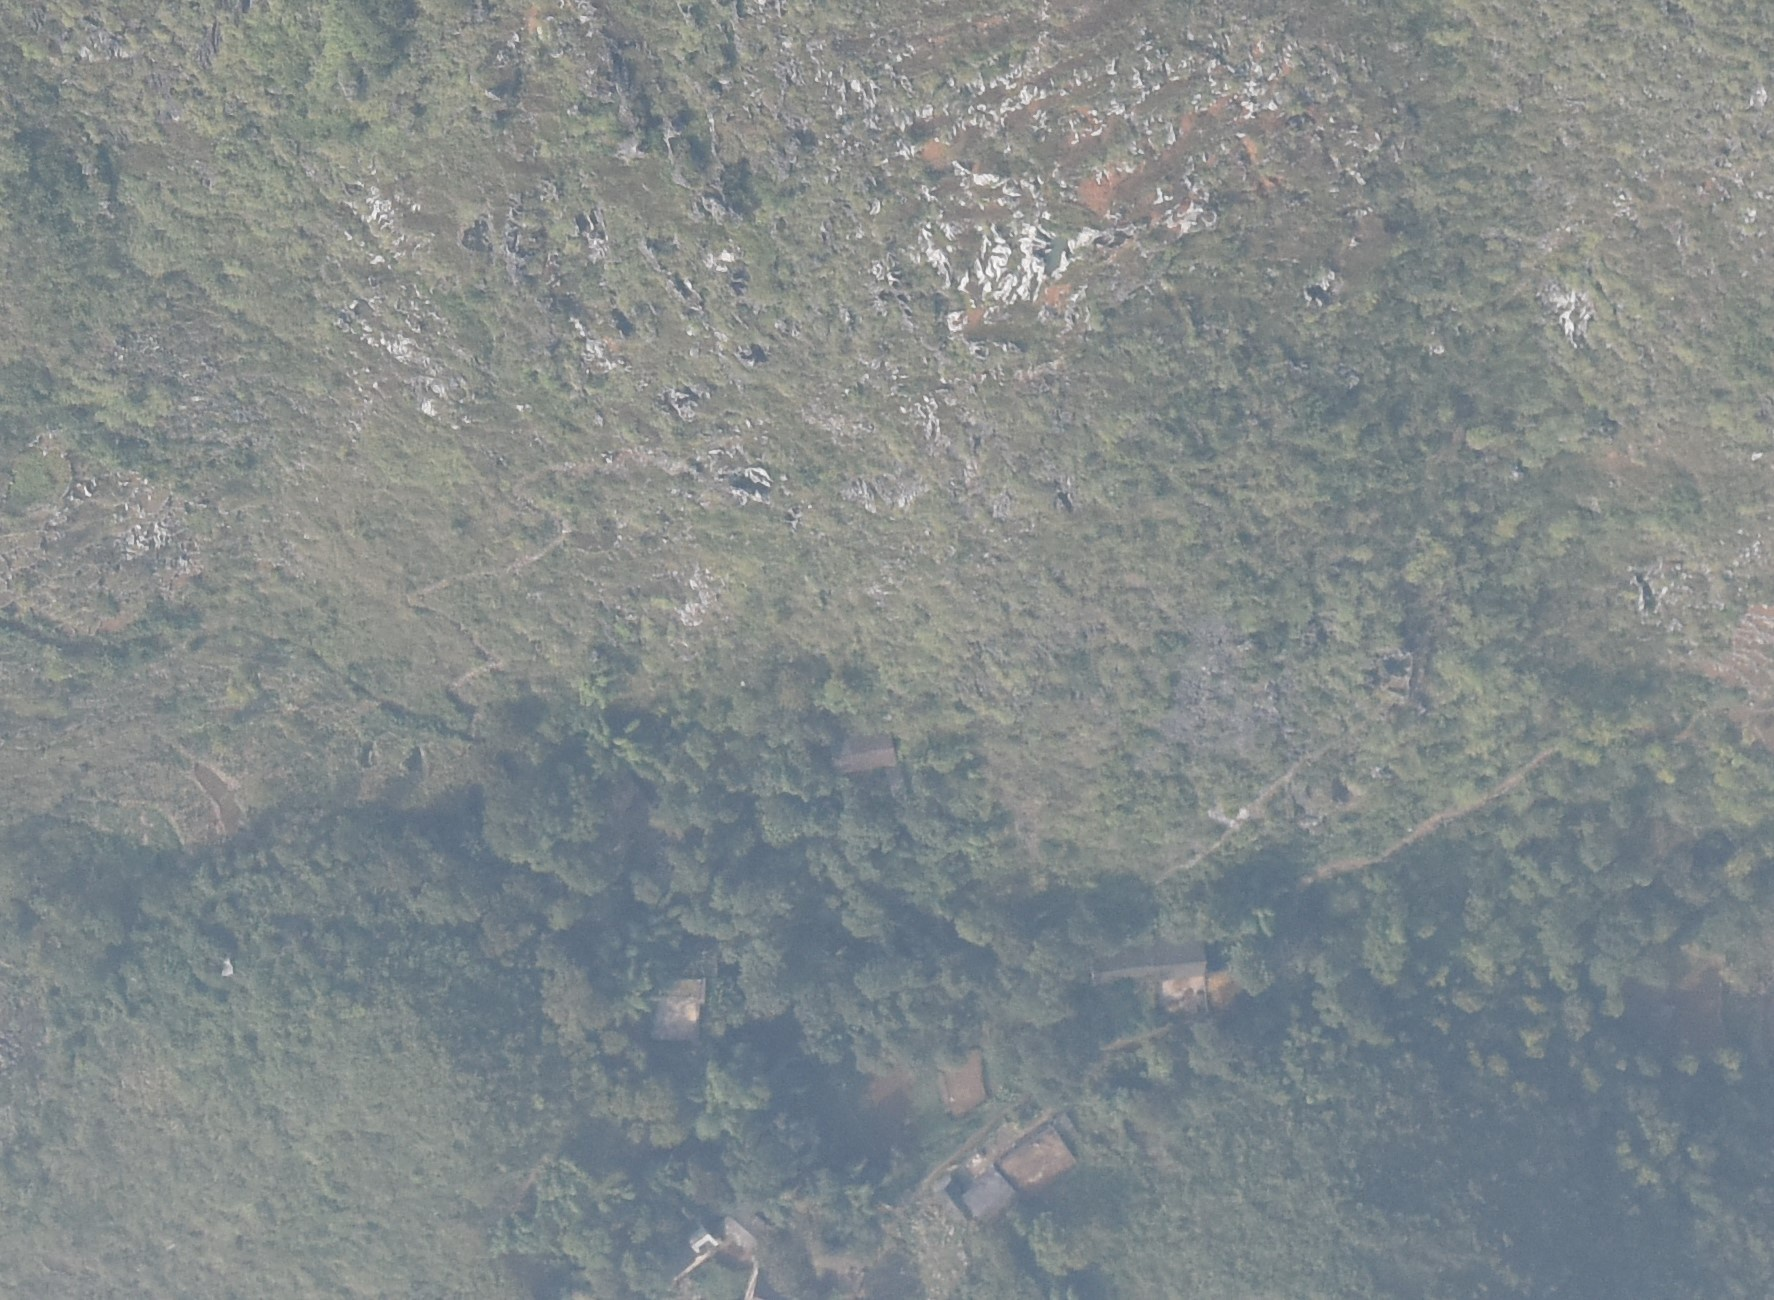building: (935, 1166, 1016, 1234), (996, 1122, 1077, 1188), (1092, 938, 1207, 978), (639, 974, 707, 1040), (934, 1049, 983, 1117), (831, 733, 899, 770)
